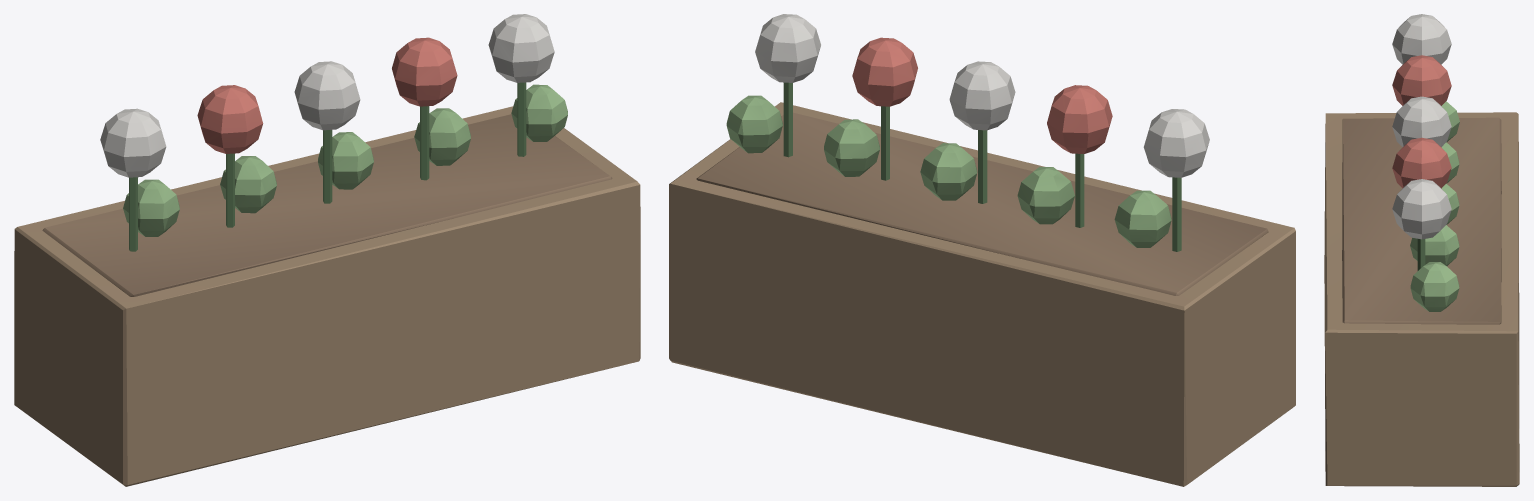
Rendered from furn_planter_box__walnut_low.glb.
3 views of the same model, side by side, from view 1: azimuth 30°, elevation 25°; view 2: azimuth 150°, elevation 25°; view 3: azimuth 270°, elevation 25° (orthographic). The views are drawn at different scales.
Bounding box in the file's own units: 1.2 × 0.71 × 0.45.
